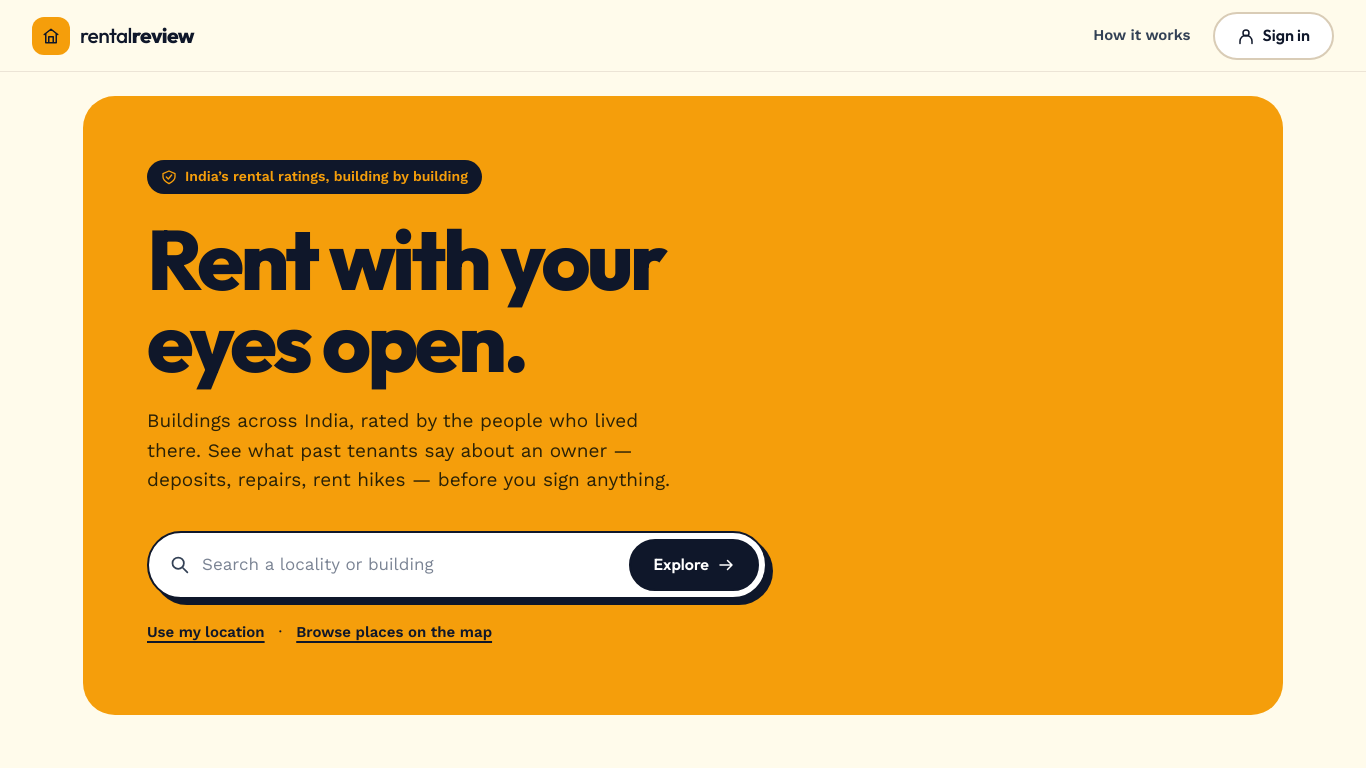
Test case: Rental Review › lists buildings already on Rental Review first, for free
Type "Parkside" into the dropdown named "Search for a locality" at (410, 565), box [202, 540, 617, 590]
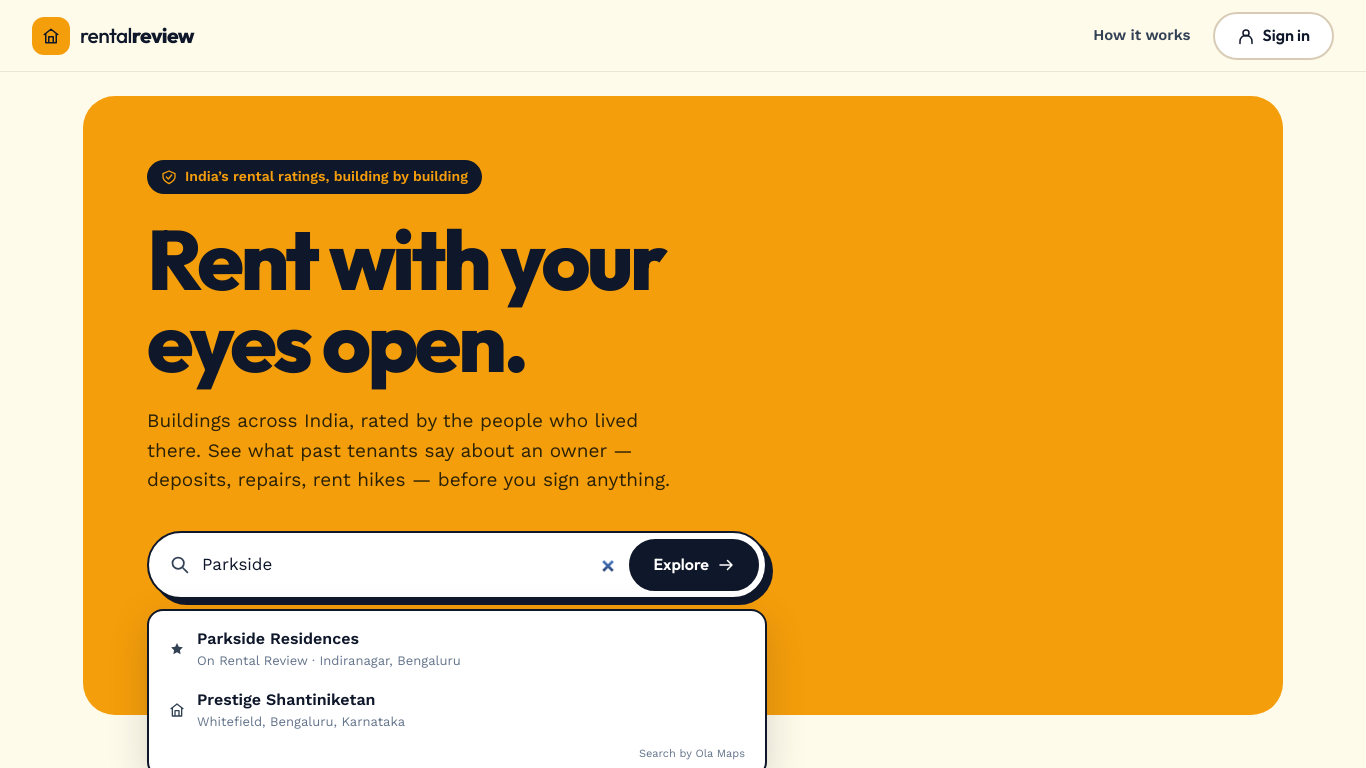
Expected: the option "Prestige Shantiniketan Whitefield, Bengaluru, Karnataka" is shown, [169, 690, 405, 729]
Click the option that starts with "Parkside Residences" at (315, 648), box [169, 629, 461, 668]
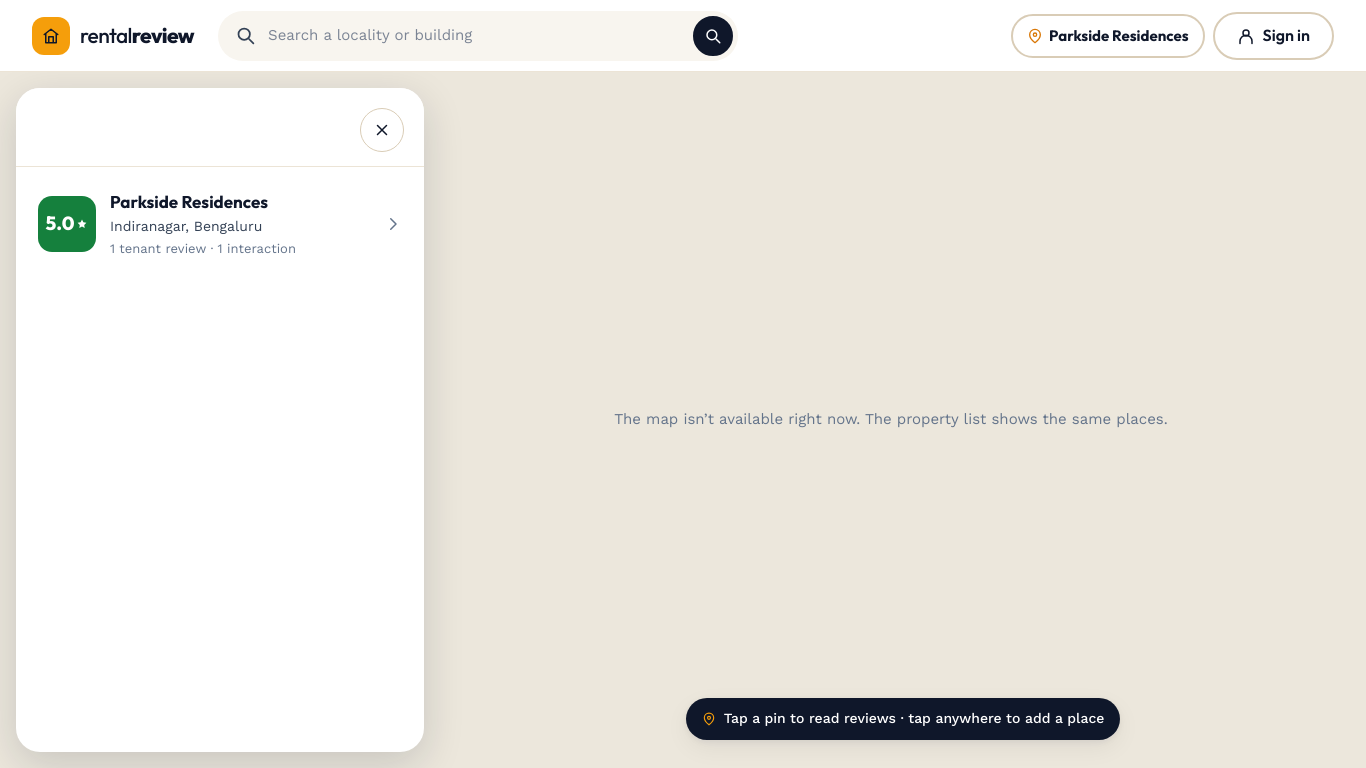
Expected: the button with aria-label "Area: Parkside Residences. Change area" is shown, [1011, 14, 1205, 58]
